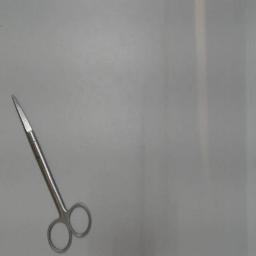Curved Mayo Scissors: (8, 87, 98, 255)
